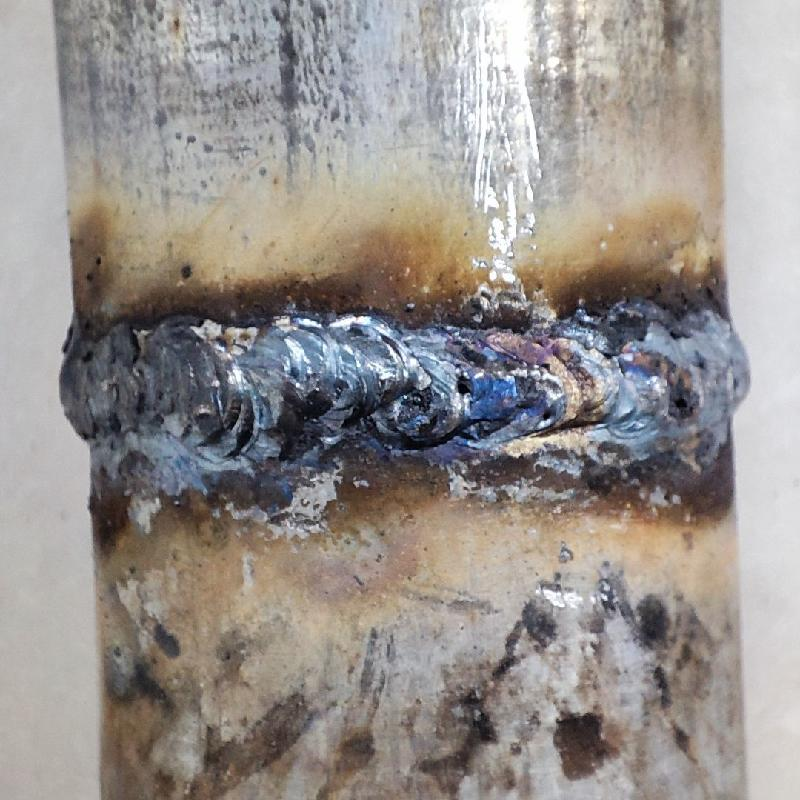Surface_pores: (437, 356, 493, 411), (663, 372, 708, 430)
good: (40, 295, 763, 459)
